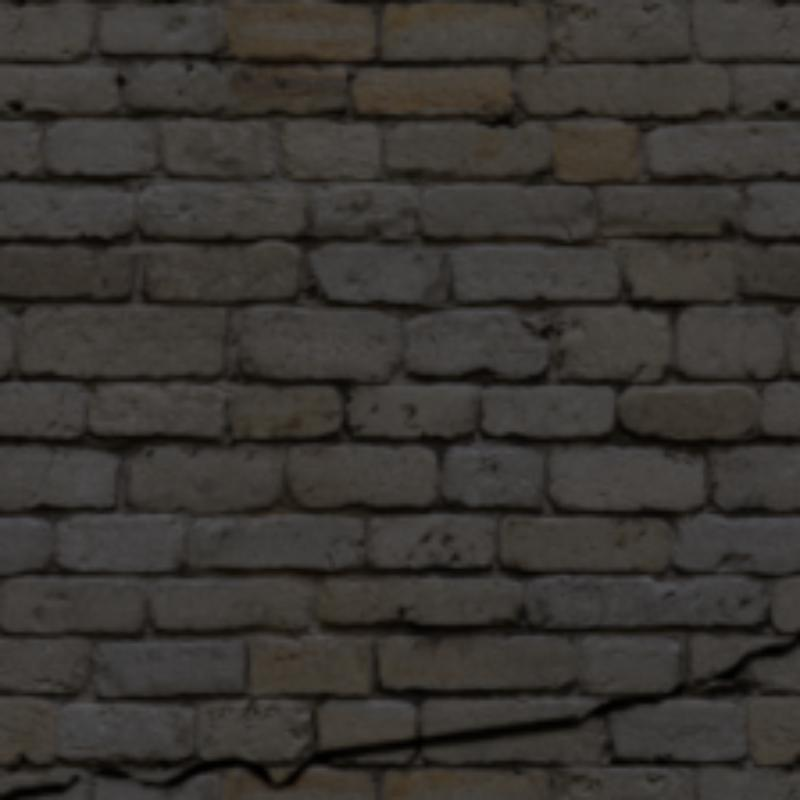pothole: (136, 629, 796, 789), (0, 764, 136, 796)
